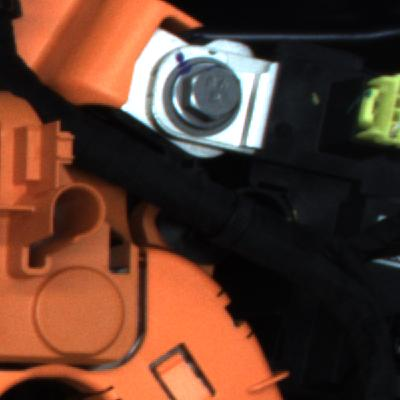nut_b: (155, 55, 263, 138)
